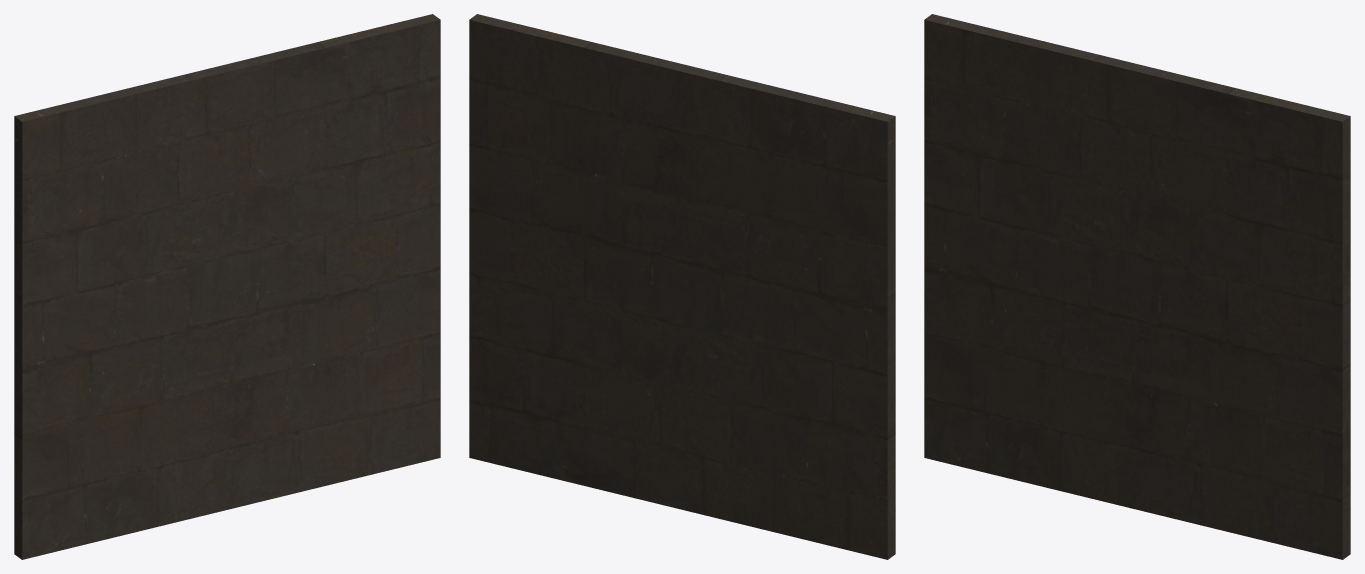
File: 3x3BreakableWall.fbx
3 renders of one model, left to right at view 1: azimuth 30°, elevation 25°; view 2: azimuth 150°, elevation 25°; view 3: azimuth 330°, elevation 25°, orthographic.
Parts seen in each view (by area): view 1: Wall3x3; view 2: Wall3x3; view 3: Wall3x3.
Part boxes in pixels (x1,y1,x2,y2): Wall3x3: [14, 14, 440, 559]; Wall3x3: [469, 14, 895, 559]; Wall3x3: [924, 14, 1350, 559].
Bounding box in the file's own units: 300 × 300 × 9.85.
